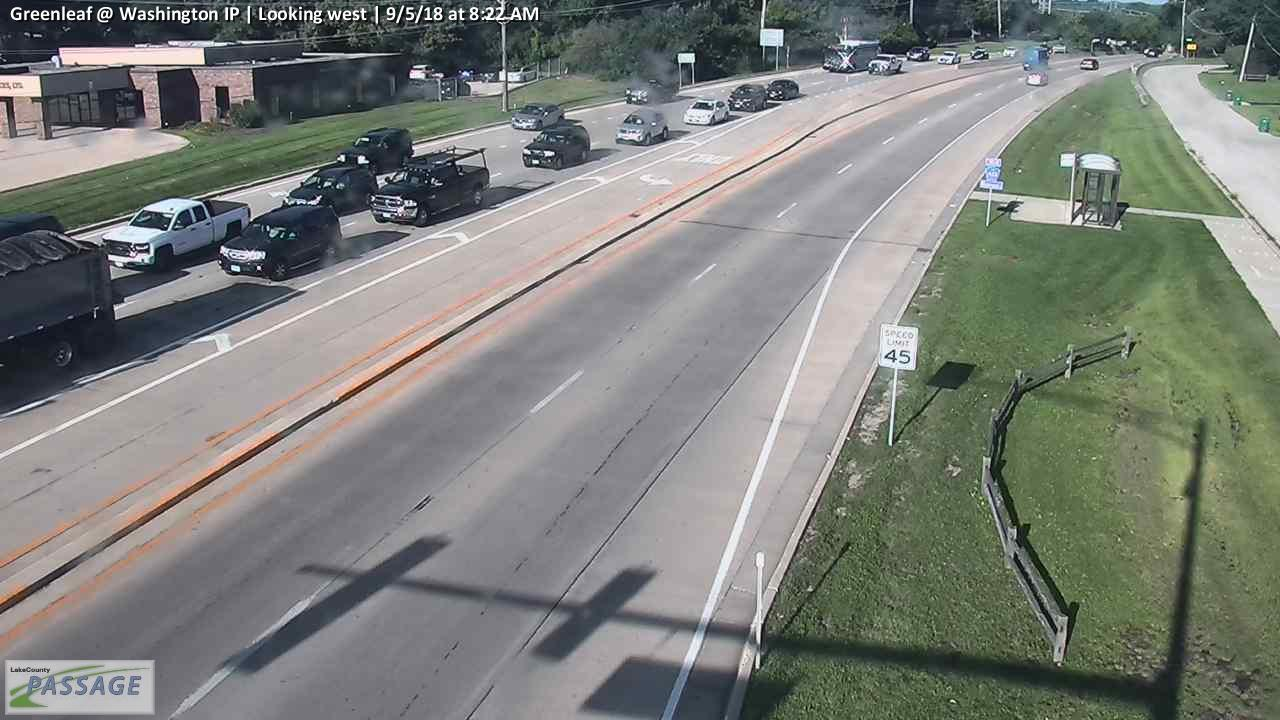Sedan: (218, 202, 343, 279), (276, 165, 378, 218), (520, 124, 590, 171), (334, 128, 412, 170), (616, 108, 668, 146), (512, 103, 564, 129), (726, 83, 766, 110), (683, 99, 727, 123), (867, 53, 904, 73), (768, 79, 799, 98), (1023, 72, 1050, 86), (906, 46, 930, 60), (937, 50, 960, 63), (1079, 57, 1100, 70), (970, 47, 989, 59), (1002, 45, 1017, 57)
Truck: (1, 228, 119, 383), (102, 194, 251, 269), (368, 145, 492, 224), (823, 38, 880, 75), (1023, 47, 1051, 71)
